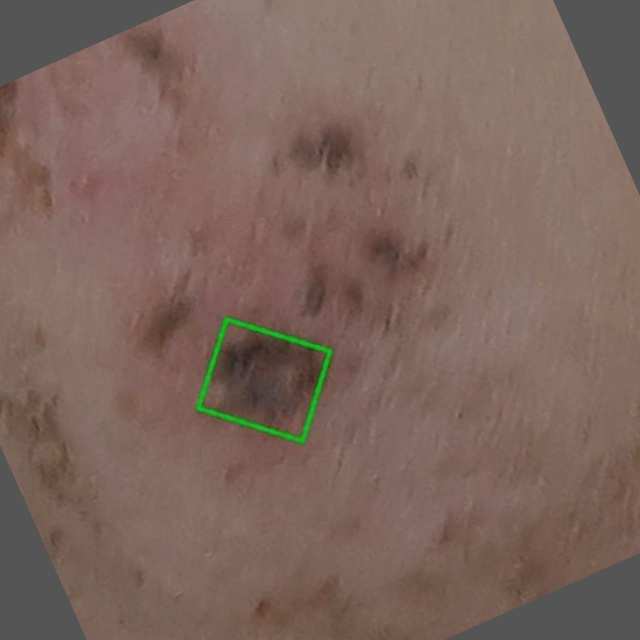Contact Dermatitis: (198, 319, 329, 441)
